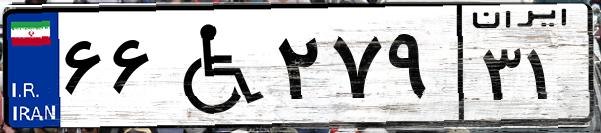1: (525, 38, 570, 115)
2: (270, 28, 330, 110)
3: (475, 38, 525, 113)
6: (57, 26, 110, 100), (110, 28, 158, 98)
7: (330, 28, 385, 110)
9: (385, 28, 445, 110)
ژ (معلولین و جانبازان): (158, 12, 270, 120)
